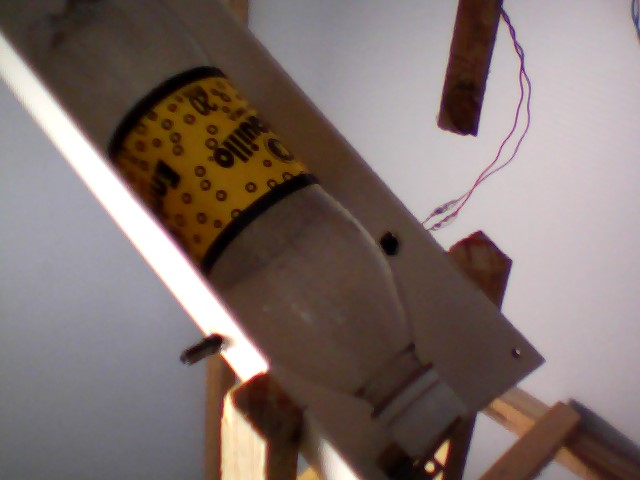plastico: (19, 1, 472, 456)
